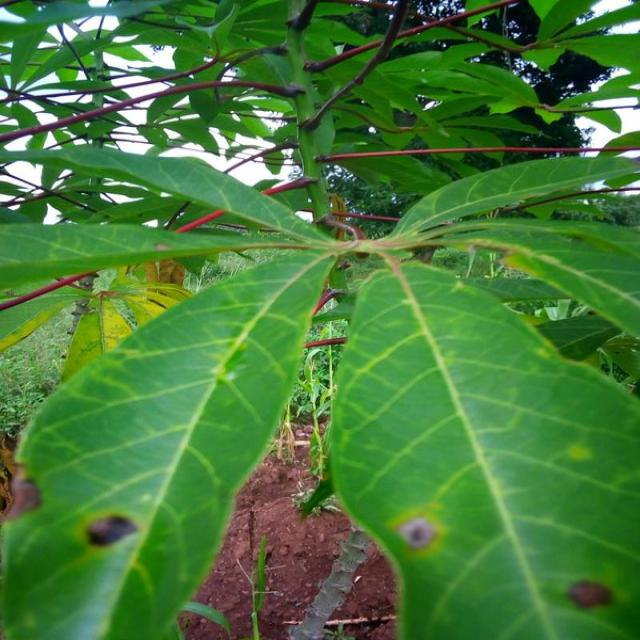cassava leaf: (0, 226, 338, 638), (328, 257, 639, 638)
